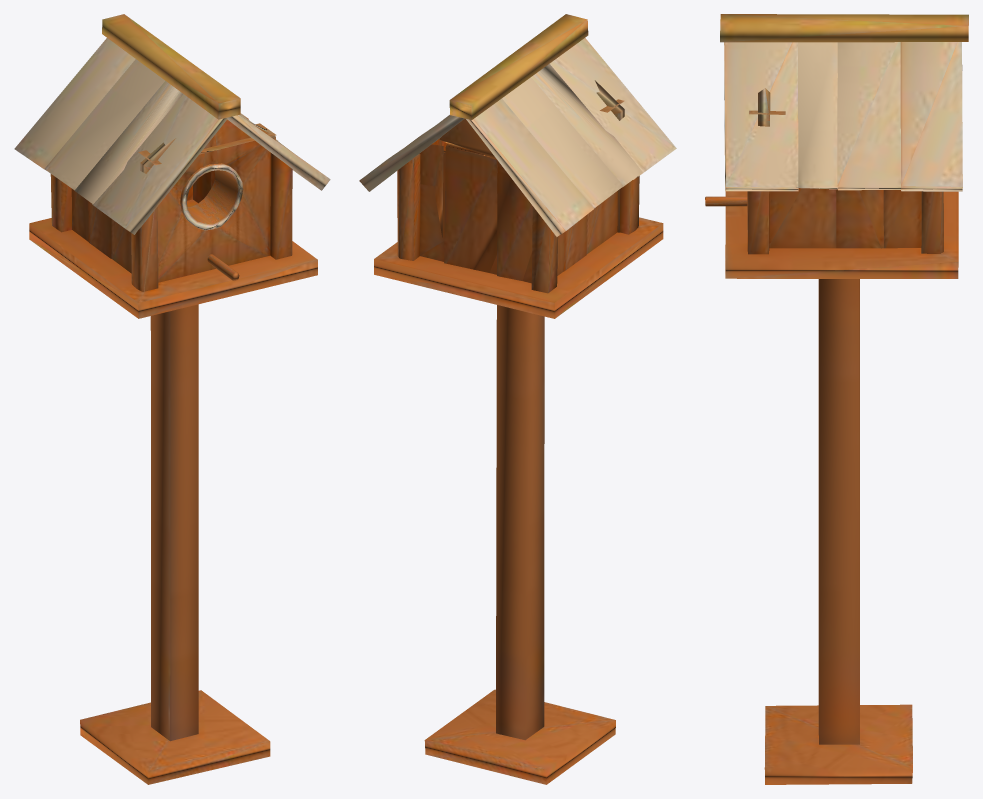
Rendered from bird-box.glb.
The picture shows the model from 3 angles, left to right: view 1: azimuth 30°, elevation 25°; view 2: azimuth 150°, elevation 25°; view 3: azimuth 270°, elevation 25°; orthographic projection. The views are drawn at different scales.
Parts seen in each view (by area): view 1: bird-box; view 2: bird-box; view 3: bird-box.
Part boxes in pixels (bbox=[...]): bird-box: bbox=[14, 14, 330, 784]; bird-box: bbox=[359, 14, 676, 784]; bird-box: bbox=[705, 14, 968, 784].
Size of the model in its own units: 0.4406 by 1.4 by 0.4563.
Materials: 1 (1 with a texture image).
